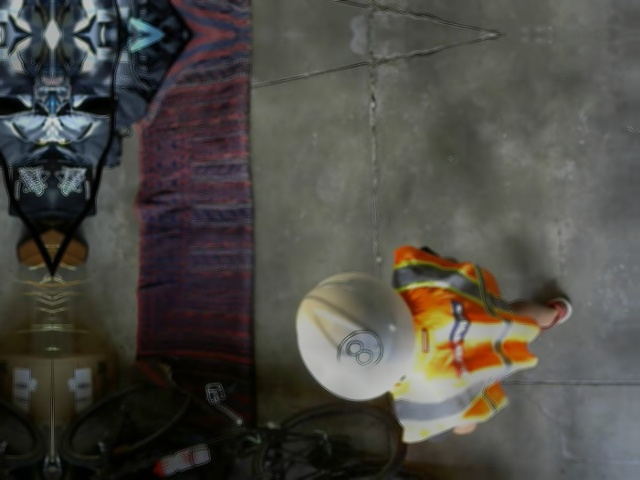eight: (335, 329, 381, 375)
